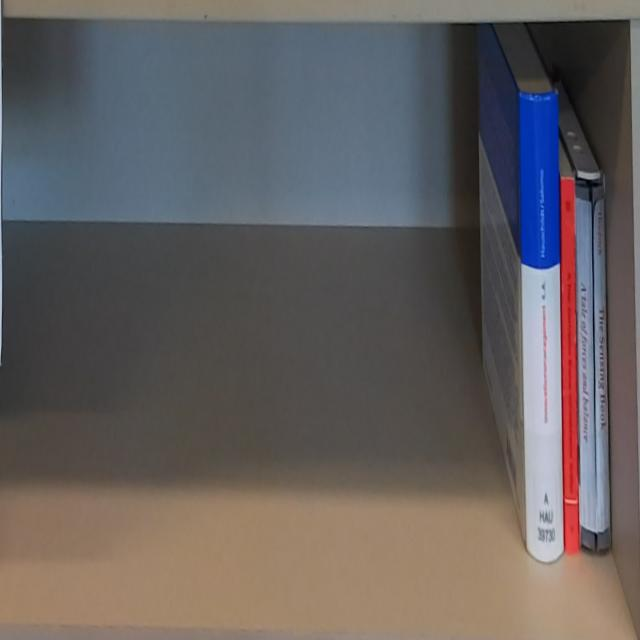Book Spine: (520, 90, 566, 569), (575, 180, 595, 555), (561, 177, 580, 552), (594, 183, 610, 556)
